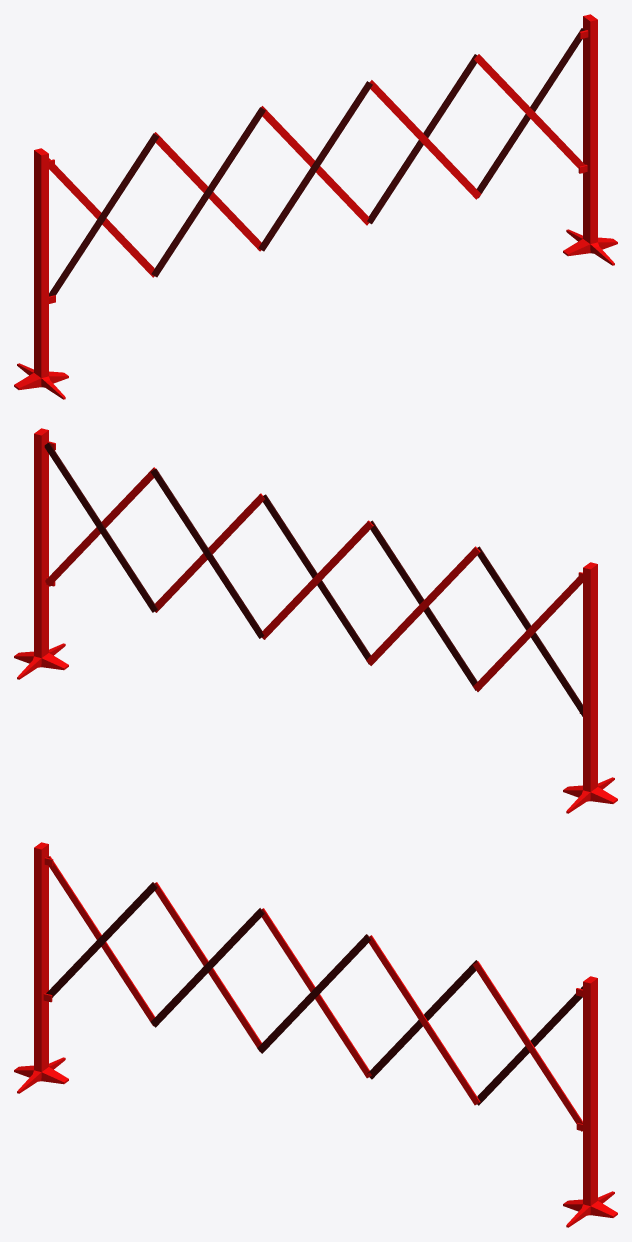
File: MetalBarrier.glb
3 renders of one model, top to bottom at view 1: azimuth 30°, elevation 25°; view 2: azimuth 150°, elevation 25°; view 3: azimuth 330°, elevation 25°, orthographic.
Parts seen in each view (by area): view 1: MetalBarrier; view 2: MetalBarrier; view 3: MetalBarrier.
Boxes of the visible parts, bbox=[...] form: MetalBarrier: bbox=[14, 14, 617, 399]; MetalBarrier: bbox=[14, 428, 617, 813]; MetalBarrier: bbox=[14, 842, 617, 1227].
Size of the model in its own units: 11.75 by 4.34 by 1.57.
